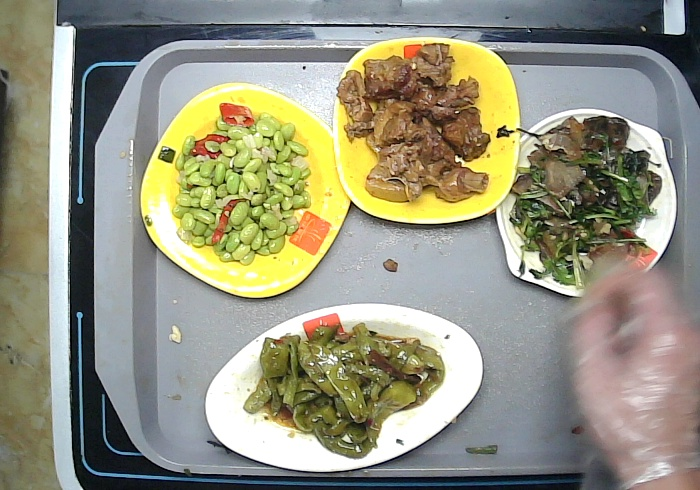SHKJ-Bao_Yu_Pan: (496, 109, 679, 301)
SHKJ-Huang_Se_Cai_Die: (330, 35, 522, 226)
SHKJ-Huang_Se_Si_Fang_Cai_Die: (144, 79, 354, 297)
SHKJ-Yu_Pan: (204, 302, 484, 465)
